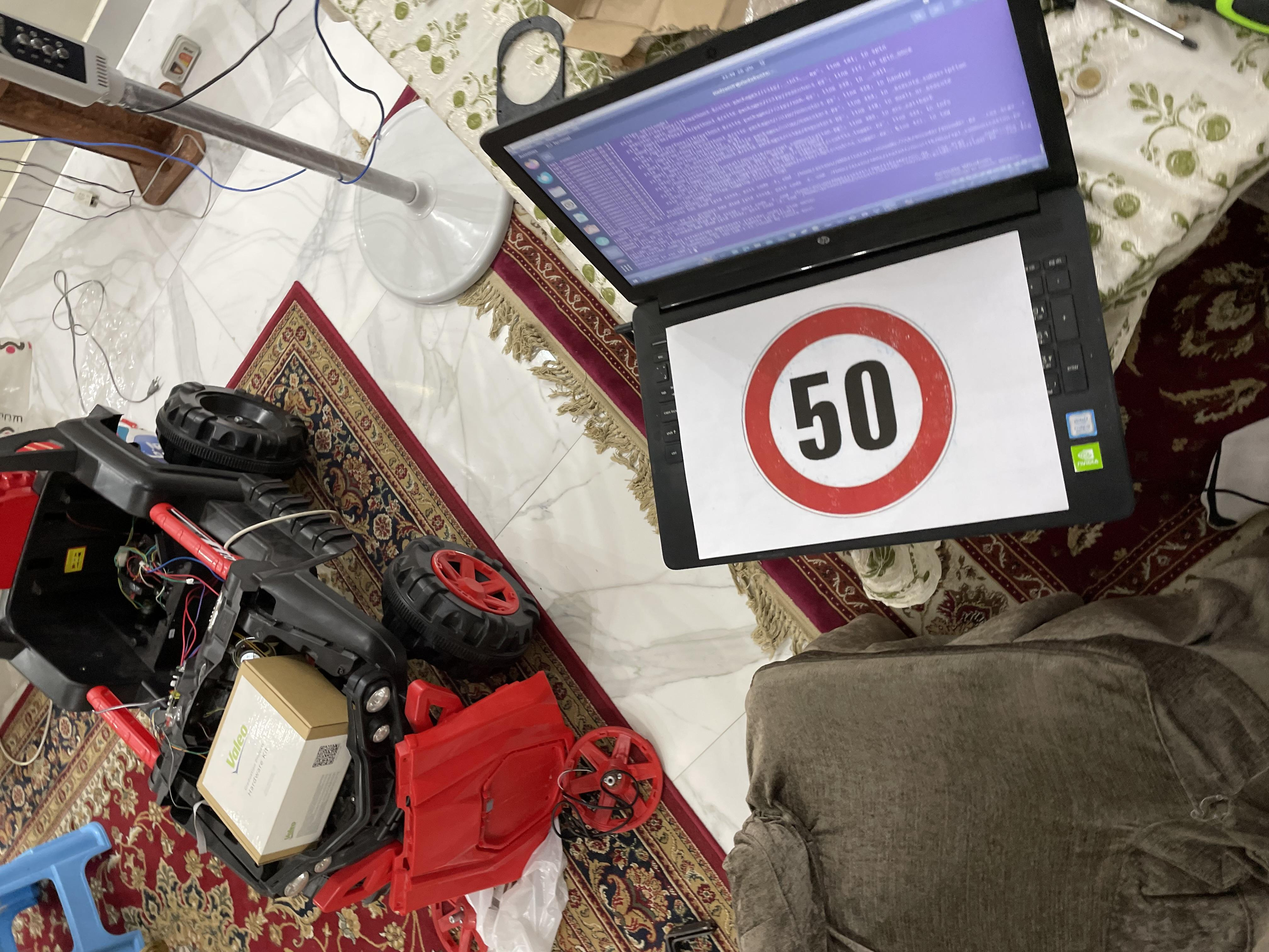50-Speed: (580, 546, 865, 717)
